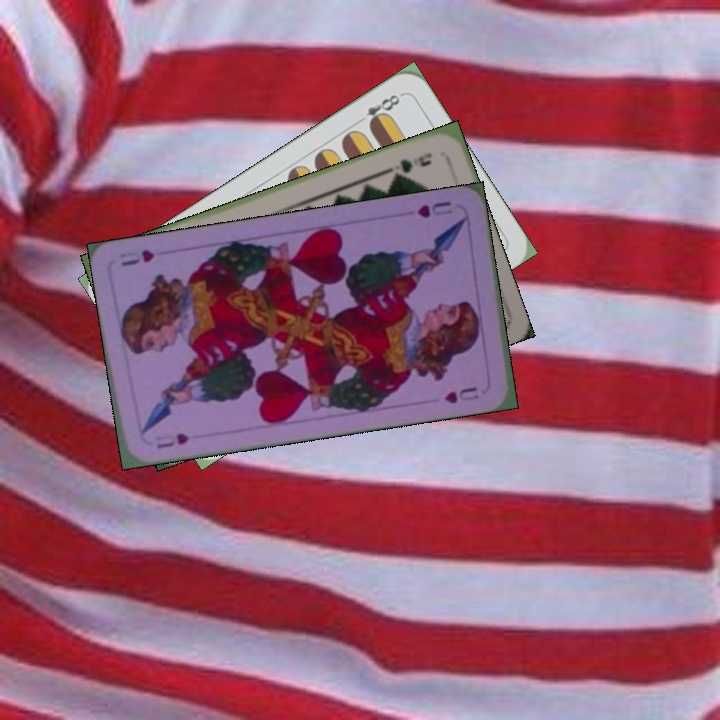E8: (352, 90, 405, 130)
G9: (384, 149, 435, 180)
HU: (413, 197, 455, 221), (152, 429, 192, 451)
